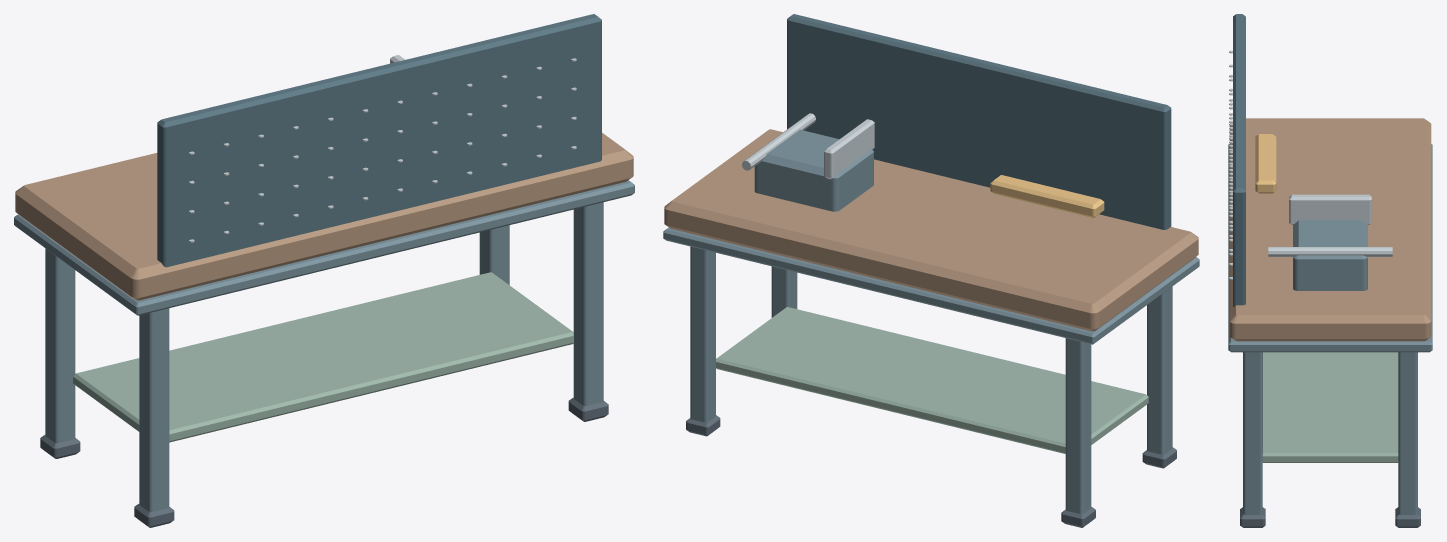
Rendered from workshop_bench.glb.
3 renders of one model, left to right at view 1: azimuth 30°, elevation 25°; view 2: azimuth 150°, elevation 25°; view 3: azimuth 270°, elevation 25°, orthographic. The views are drawn at different scales.
Visible parts, largest first — view 1: 011_perforated_rear_pegboard, 010_workshop_lower_shelf, 000_heavy_durable_wood_top, 001_stainless_worktop_underside, 004_heavy_steel_leg, 008_heavy_steel_leg, 002_heavy_steel_leg, 006_heavy_steel_leg; view 2: 000_heavy_durable_wood_top, 011_perforated_rear_pegboard, 010_workshop_lower_shelf, 001_stainless_worktop_underside, 060_vice_cast_iron, 002_heavy_steel_leg, 006_heavy_steel_leg, 004_heavy_steel_leg, 063_tool_rack_under_pegboard, 061_vice_jaw, 008_heavy_steel_leg, 062_vice_handle; view 3: 000_heavy_durable_wood_top, 010_workshop_lower_shelf, 060_vice_cast_iron, 011_perforated_rear_pegboard, 006_heavy_steel_leg, 008_heavy_steel_leg, 001_stainless_worktop_underside, 061_vice_jaw, 063_tool_rack_under_pegboard, 062_vice_handle, 007_rubber_foot, 009_rubber_foot.
Part boxes in pixels (left/top/right/bottom): 011_perforated_rear_pegboard: left=157, top=14, right=601, bottom=267; 010_workshop_lower_shelf: left=73, top=272, right=573, bottom=442; 000_heavy_durable_wood_top: left=15, top=133, right=633, bottom=300; 001_stainless_worktop_underside: left=14, top=180, right=634, bottom=315; 004_heavy_steel_leg: left=139, top=308, right=169, bottom=511; 008_heavy_steel_leg: left=573, top=202, right=603, bottom=405; 002_heavy_steel_leg: left=45, top=248, right=75, bottom=442; 006_heavy_steel_leg: left=479, top=225, right=509, bottom=284; 000_heavy_durable_wood_top: left=664, top=129, right=1198, bottom=331; 011_perforated_rear_pegboard: left=787, top=14, right=1171, bottom=229; 010_workshop_lower_shelf: left=716, top=307, right=1148, bottom=453; 001_stainless_worktop_underside: left=663, top=227, right=1199, bottom=344; 060_vice_cast_iron: left=754, top=129, right=873, bottom=211; 002_heavy_steel_leg: left=1065, top=338, right=1091, bottom=513; 006_heavy_steel_leg: left=690, top=246, right=715, bottom=422; 004_heavy_steel_leg: left=1147, top=286, right=1172, bottom=454; 063_tool_rack_under_pegboard: left=990, top=175, right=1104, bottom=217; 061_vice_jaw: left=824, top=119, right=874, bottom=179; 008_heavy_steel_leg: left=771, top=266, right=797, bottom=317; 062_vice_handle: left=742, top=113, right=815, bottom=170; 000_heavy_durable_wood_top: left=1229, top=118, right=1431, bottom=341; 010_workshop_lower_shelf: left=1262, top=352, right=1398, bottom=462; 060_vice_cast_iron: left=1293, top=220, right=1367, bottom=290; 011_perforated_rear_pegboard: left=1233, top=14, right=1245, bottom=306; 006_heavy_steel_leg: left=1398, top=352, right=1417, bottom=514; 008_heavy_steel_leg: left=1243, top=352, right=1262, bottom=514; 001_stainless_worktop_underside: left=1228, top=144, right=1432, bottom=352; 061_vice_jaw: left=1289, top=194, right=1371, bottom=224; 063_tool_rack_under_pegboard: left=1255, top=134, right=1276, bottom=193; 062_vice_handle: left=1268, top=247, right=1392, bottom=256; 007_rubber_foot: left=1395, top=507, right=1420, bottom=527; 009_rubber_foot: left=1240, top=507, right=1265, bottom=527.
Size of the model in its own units: 1.85 by 1.43 by 0.79.
